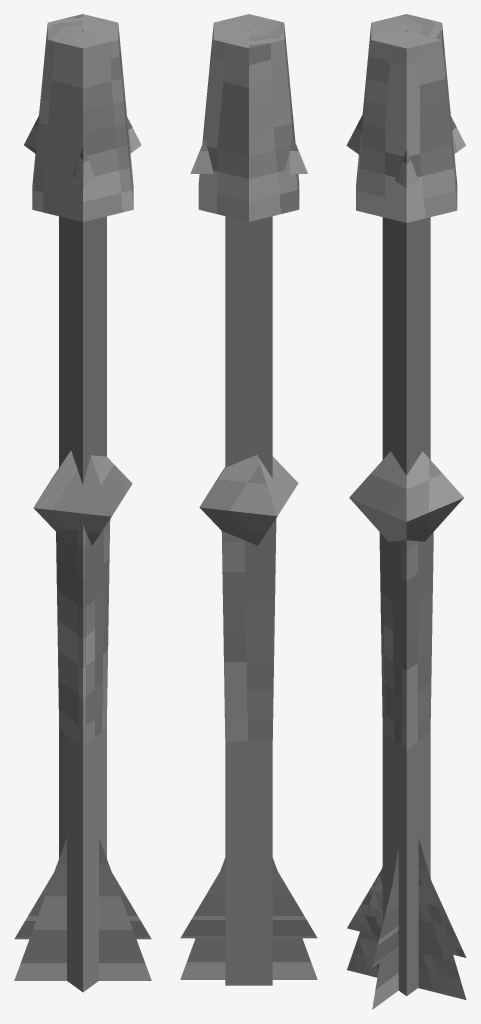
The model's file is Arrows.glb.
3 renders of one model, left to right at view 1: azimuth 30°, elevation 25°; view 2: azimuth 210°, elevation 25°; view 3: azimuth 270°, elevation 25°, orthographic.
Parts seen in each view (by area): view 1: ArrowShaft, ArrowFireTip, BoltShaft, ArrowStabilizer, BoltExplosiveTip, BoltStabilizer, ArrowTip; view 2: ArrowShaft, ArrowFireTip, BoltShaft, BoltExplosiveTip, BoltStabilizer, ArrowStabilizer, ArrowTip; view 3: ArrowShaft, ArrowFireTip, BoltShaft, BoltExplosiveTip, ArrowStabilizer, BoltStabilizer, ArrowTip.
Part boxes in pixels (<box>): ArrowShaft: <box>59,216,106,992</box>; ArrowFireTip: <box>32,14,133,221</box>; BoltShaft: <box>56,519,110,747</box>; ArrowStabilizer: <box>14,838,151,980</box>; BoltExplosiveTip: <box>33,450,132,545</box>; BoltStabilizer: <box>14,873,151,939</box>; ArrowTip: <box>24,29,141,188</box>; ArrowShaft: <box>225,216,272,985</box>; ArrowFireTip: <box>198,14,299,221</box>; BoltShaft: <box>221,519,276,741</box>; BoltExplosiveTip: <box>199,455,298,545</box>; BoltStabilizer: <box>180,863,317,938</box>; ArrowStabilizer: <box>180,858,317,979</box>; ArrowTip: <box>190,29,307,173</box>; ArrowShaft: <box>382,217,430,996</box>; ArrowFireTip: <box>356,14,457,222</box>; BoltShaft: <box>379,532,433,750</box>; BoltExplosiveTip: <box>349,451,463,541</box>; ArrowStabilizer: <box>347,838,466,1009</box>; BoltStabilizer: <box>347,860,466,967</box>; ArrowTip: <box>346,29,465,188</box>.
Bounding box in the file's own units: 0.1111 × 0.9163 × 0.1043.
Materials: 1 (1 with a texture image).
